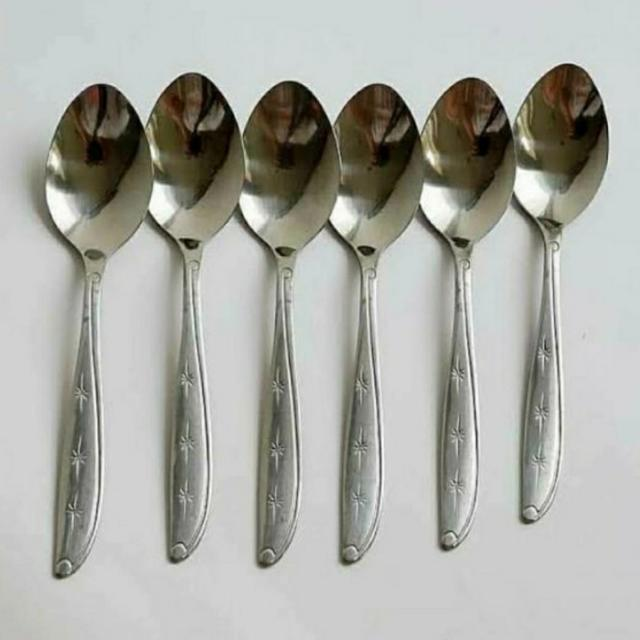spoon: (36, 78, 156, 575), (143, 65, 250, 571), (511, 47, 615, 560), (239, 73, 344, 569), (415, 52, 516, 561), (329, 70, 424, 566)
